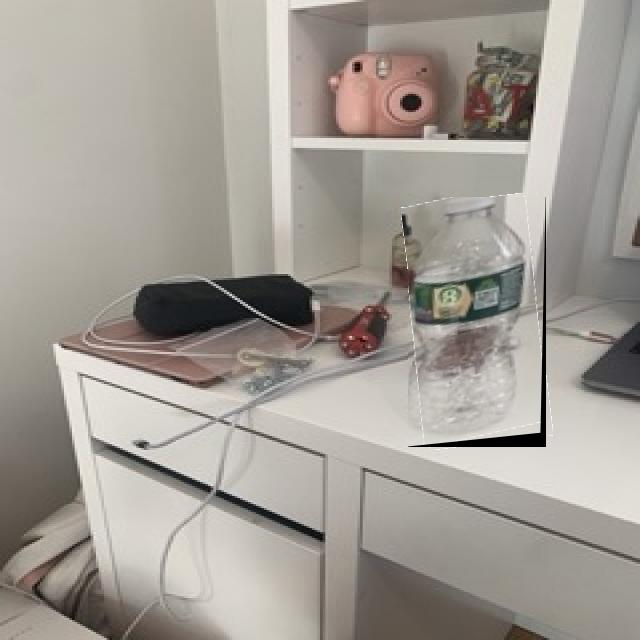water_bottle: (408, 197, 546, 447)
